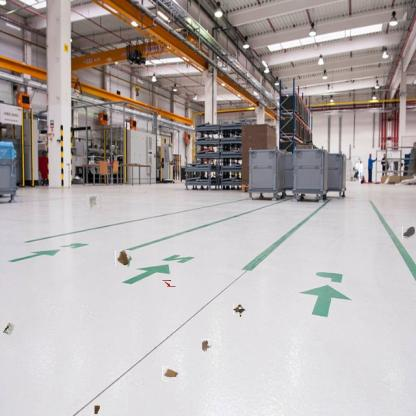dirty: (115, 250, 131, 267), (163, 366, 179, 381), (1, 321, 15, 337), (87, 194, 101, 208), (234, 303, 246, 316), (92, 403, 100, 415), (162, 280, 176, 286)
liquid: (402, 225, 415, 239), (201, 339, 211, 352)
